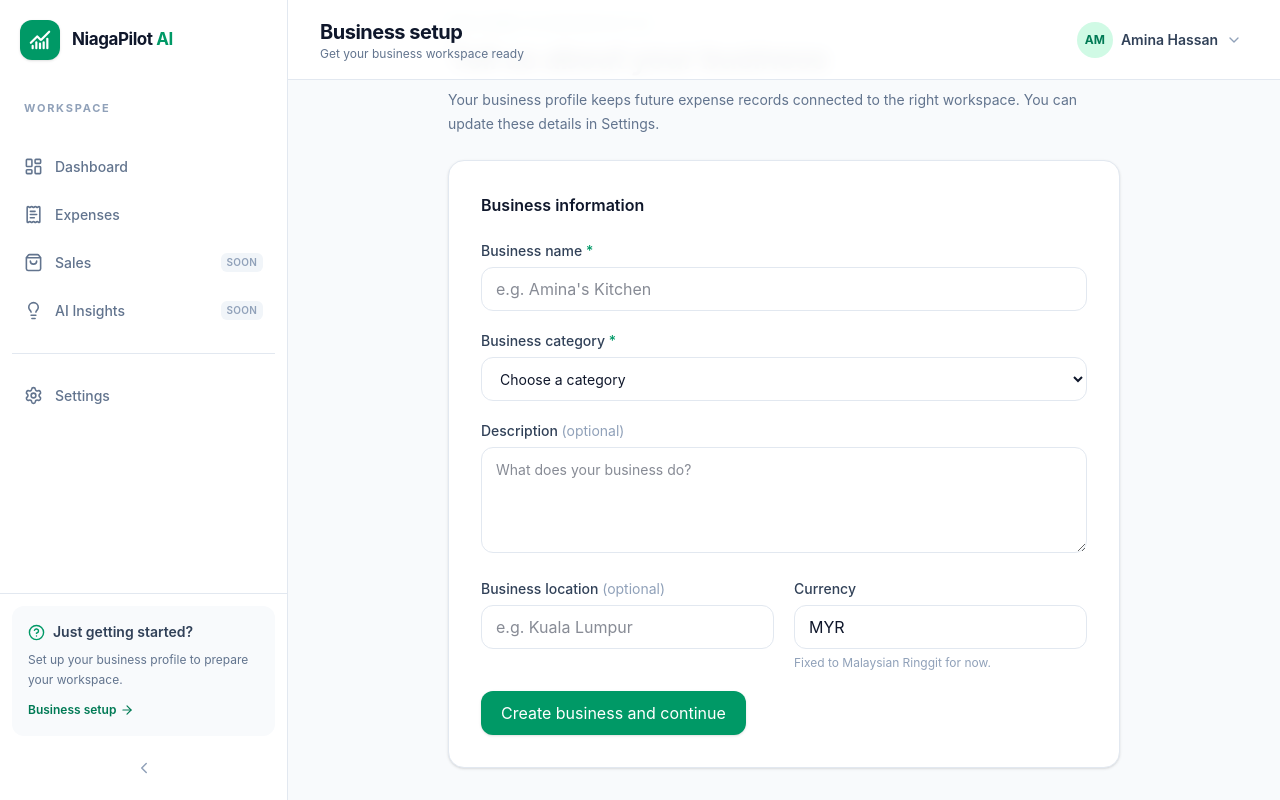
Test case: business routes › rejects an invalid business profile
(page scrolled)
What coordinates should you click on to do the following:
click the button "Create business and continue"
I would click on:
 (613, 713)
Its box is left=481, top=691, right=746, bottom=735.
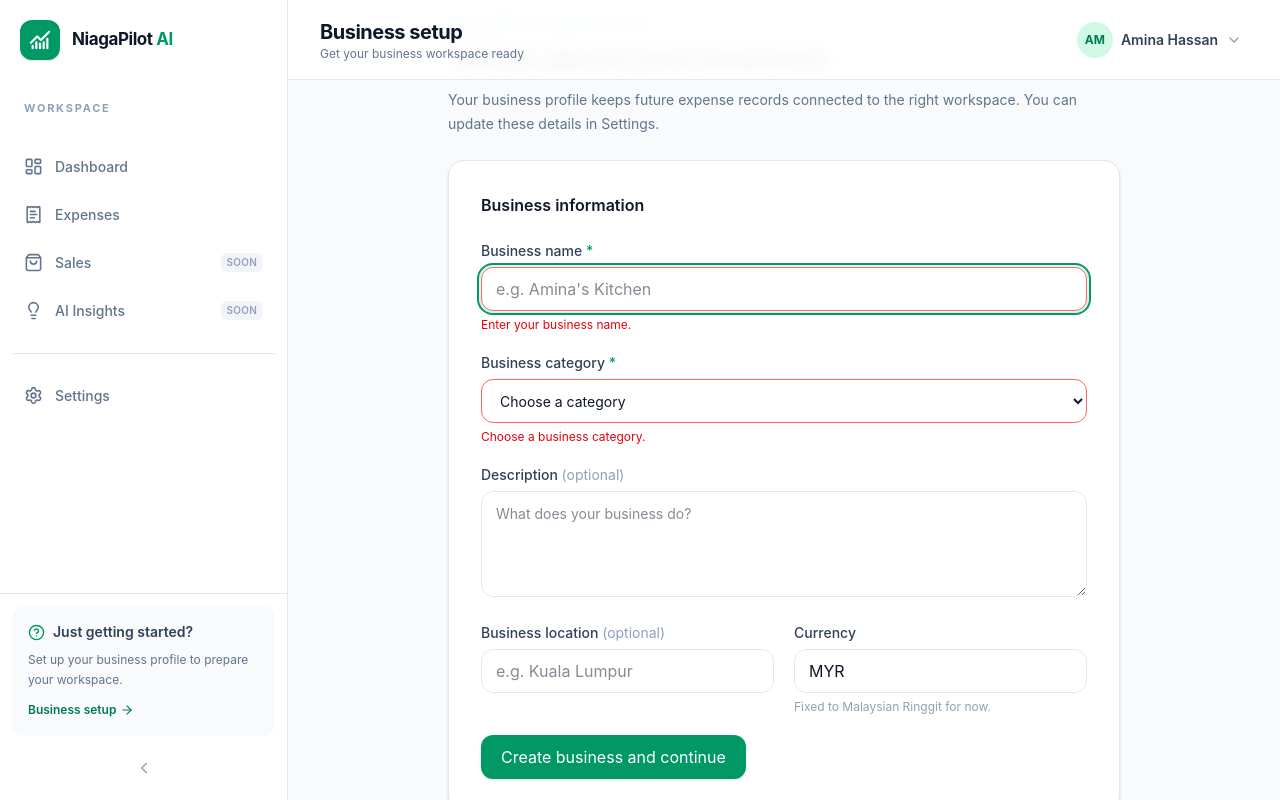
Now the text "Enter your business name." is shown, box left=481, top=317, right=631, bottom=332
Now the text "Choose a business category." is shown, box left=481, top=429, right=645, bottom=444
